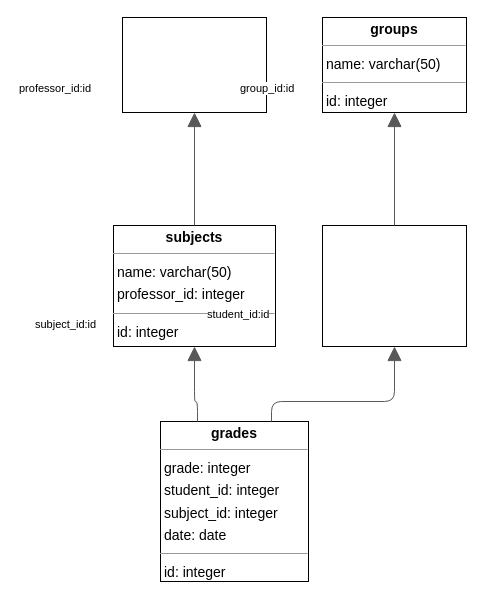
Image size: 484x599. Some labels were removed from this diagram. The box of each missing label's shape, as (x1, y1, x2, y2) in pixels:
professors name: varchar(50) id: integer: (122, 16, 266, 112)
students name: varchar(50) group_id: integer id: integer: (322, 224, 466, 346)
